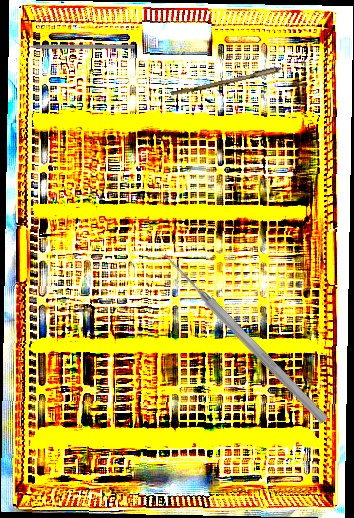Chopper: (14, 38, 135, 49)
Pusher: (159, 249, 331, 426)
Surgical Spoon: (170, 55, 318, 100)
